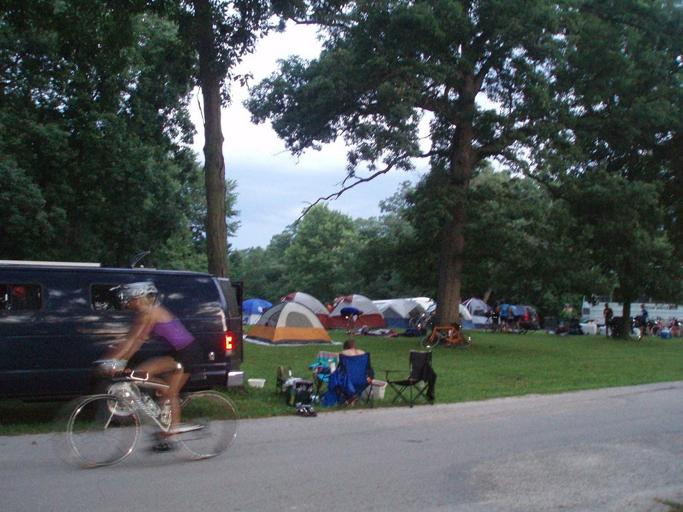non-vehicle: (59, 354, 242, 469), (416, 323, 473, 351)
